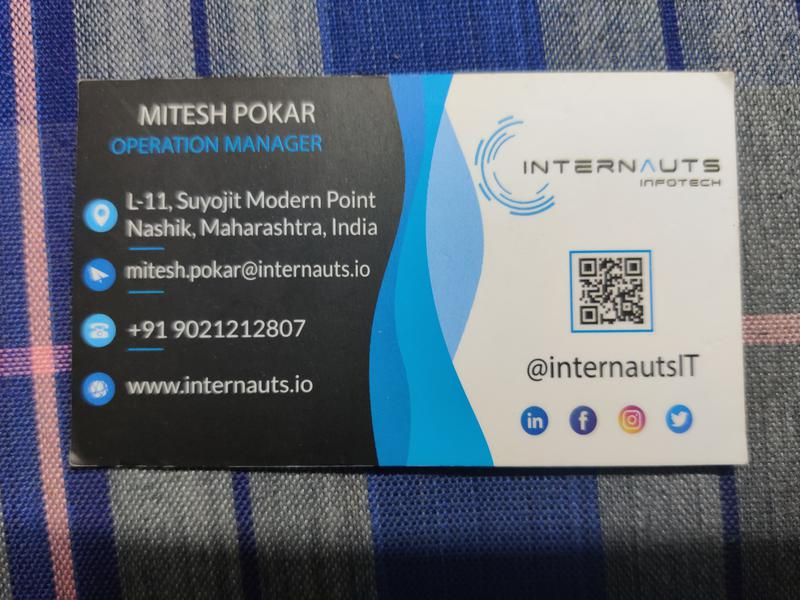card: (74, 73, 750, 468)
